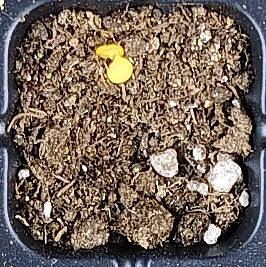pepper seed: (39, 8, 174, 94), (33, 14, 158, 74)
